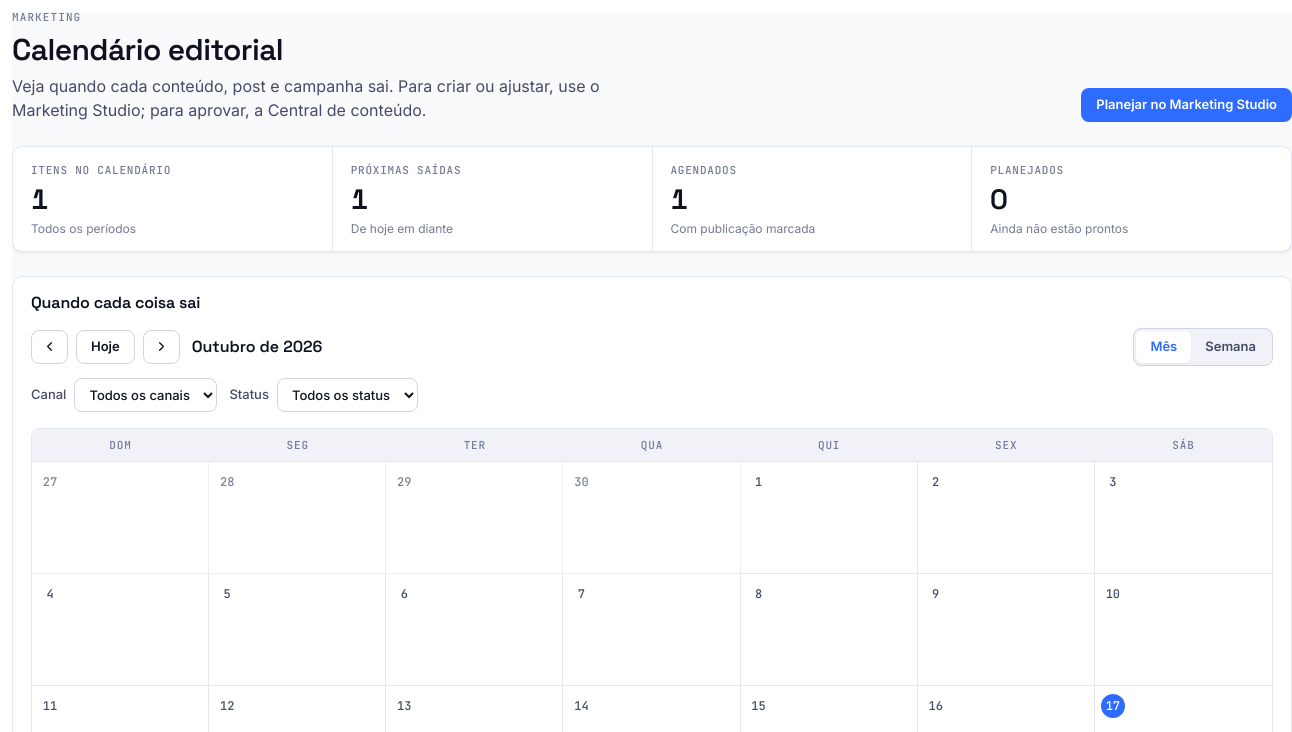
PortalEditorialCalendarPage › navega para o mês anterior, o próximo e volta para hoje
Expected: the text "Post de novembro" is not shown
Step 1. Click the button named "Próximo período" → (161, 347), box [143,330,180,364]
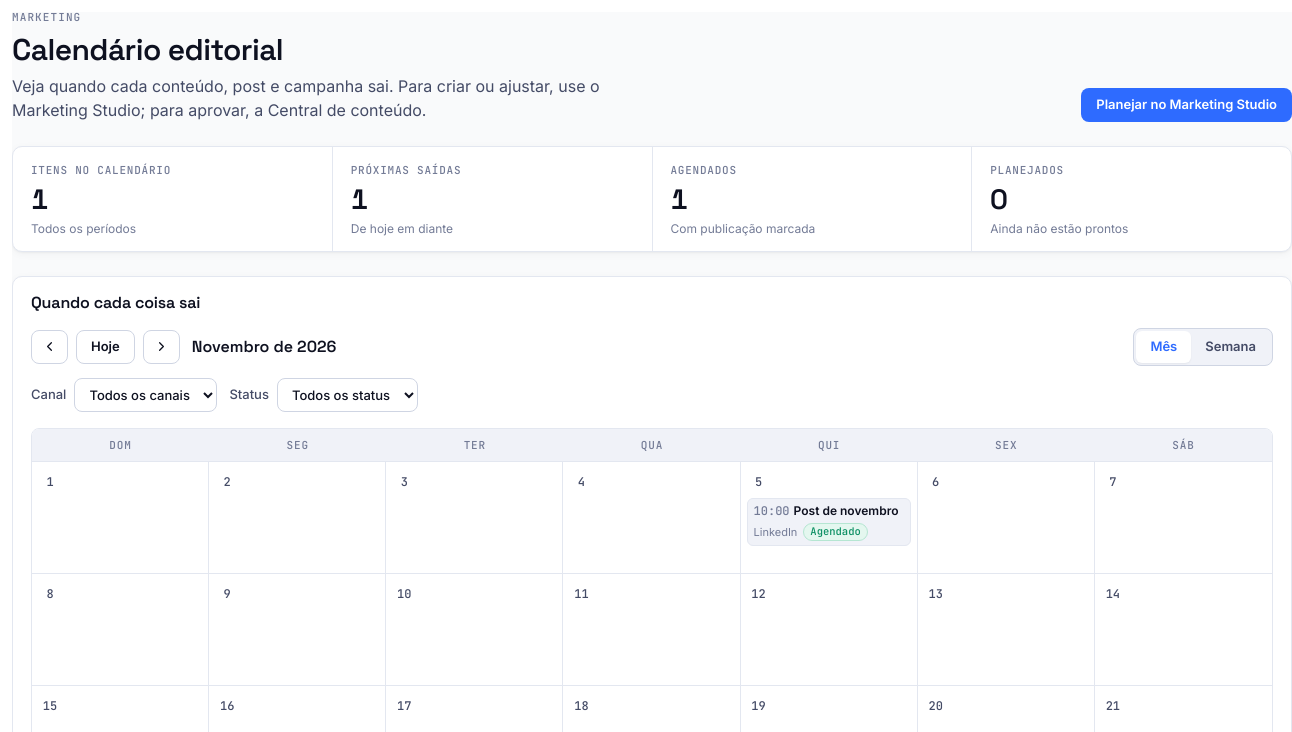
Expected: the text with test id "calendar-range" reads "novembro de 2026", [192,336,336,357]
Step 2. Click the button named "Período anterior" → (50, 347), box [31,330,68,364]
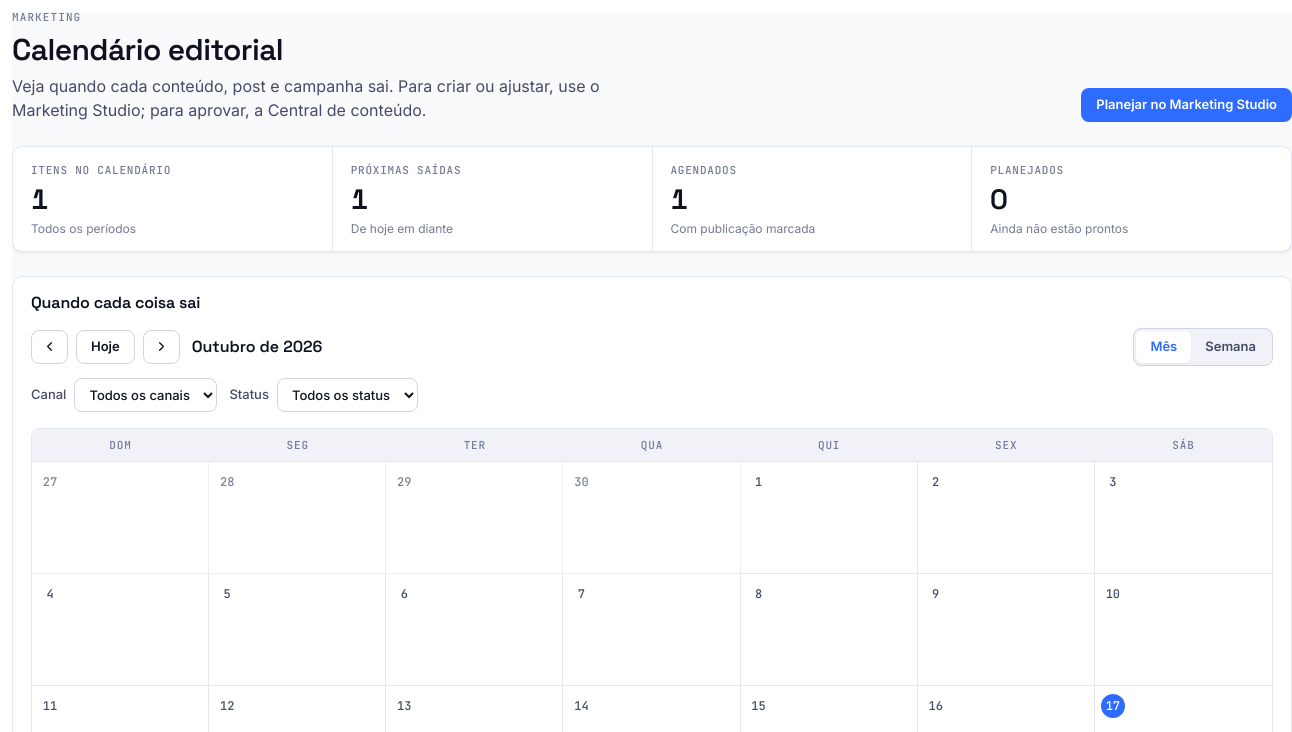
Step 3. Click the button named "Período anterior" → (50, 347), box [31,330,68,364]
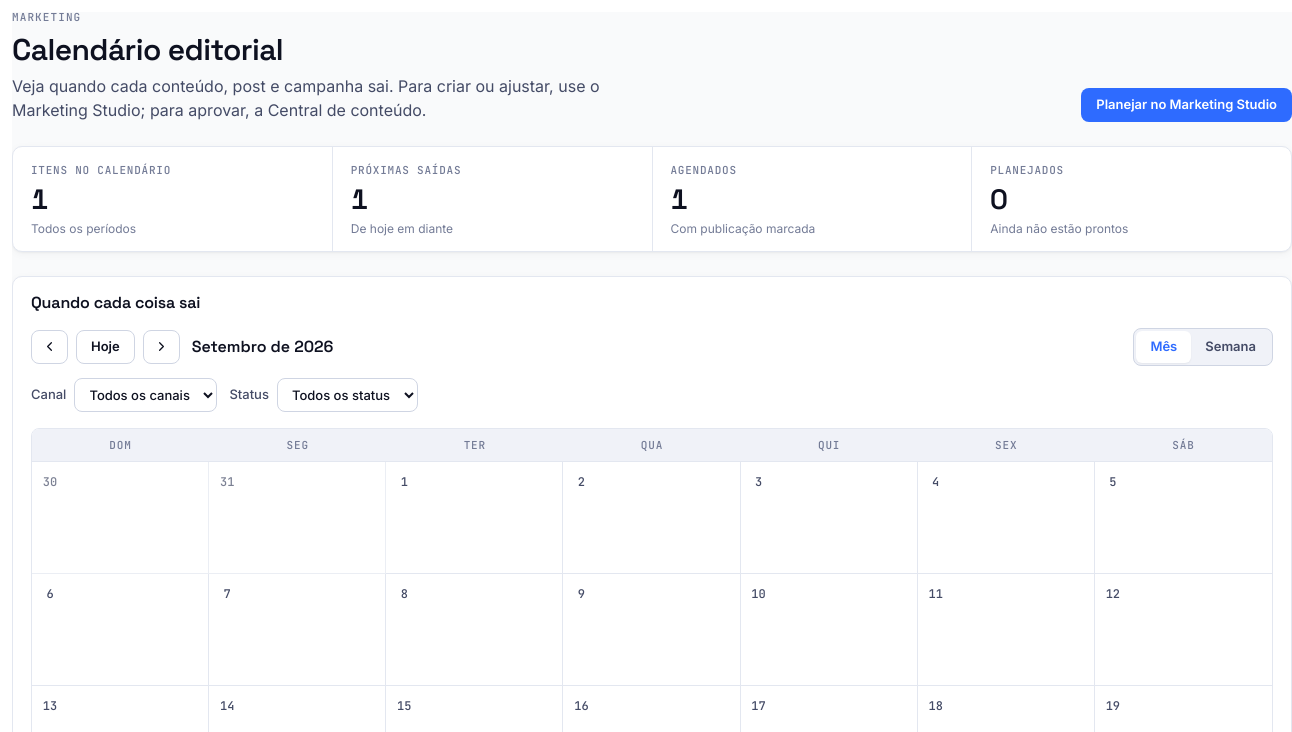
Expected: the text with test id "calendar-range" reads "setembro de 2026", [192,336,333,357]
Step 4. Click the button "Hoje" → (105, 347), box [76,330,135,364]
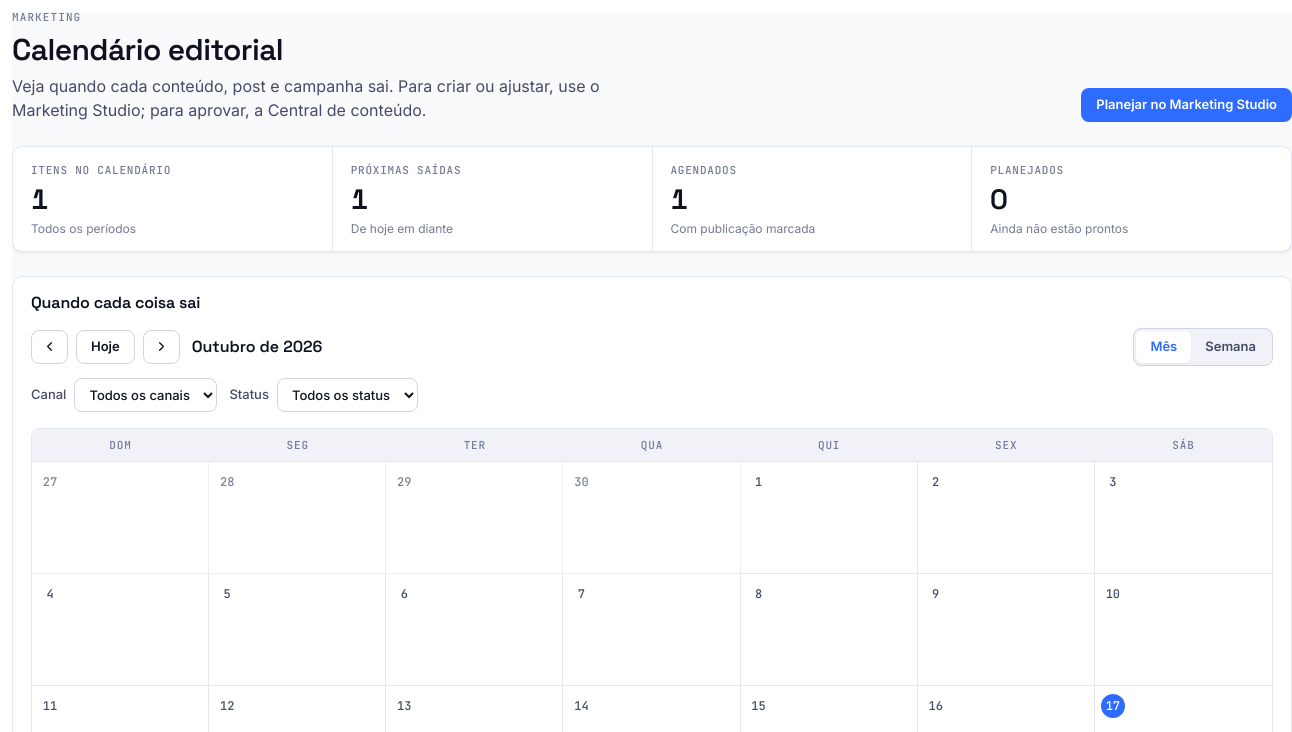
Expected: the text with test id "calendar-range" reads "outubro de 2026", [192,336,322,357]
